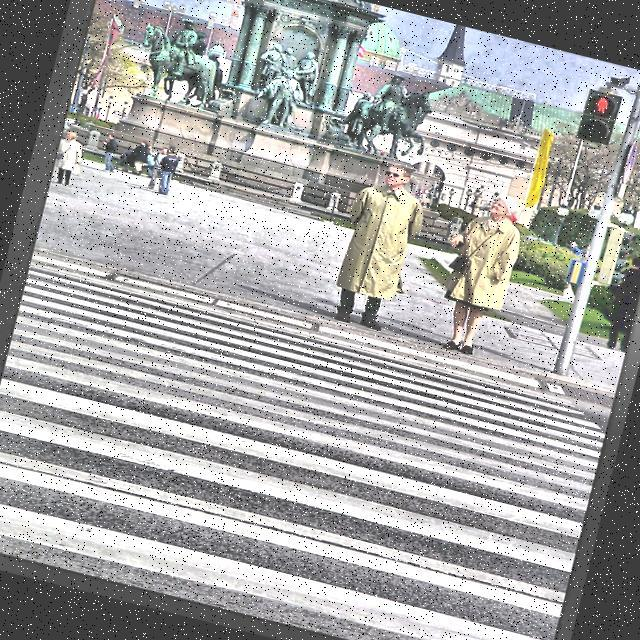red_light: (592, 93, 611, 116)
